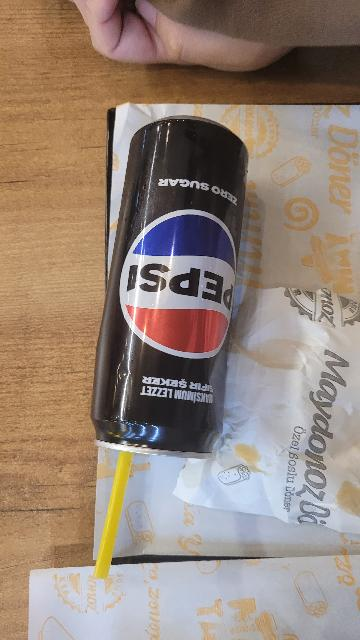Kagit: (190, 285, 360, 535)
Metal: (94, 115, 244, 456)
Plastik: (90, 447, 136, 577)
